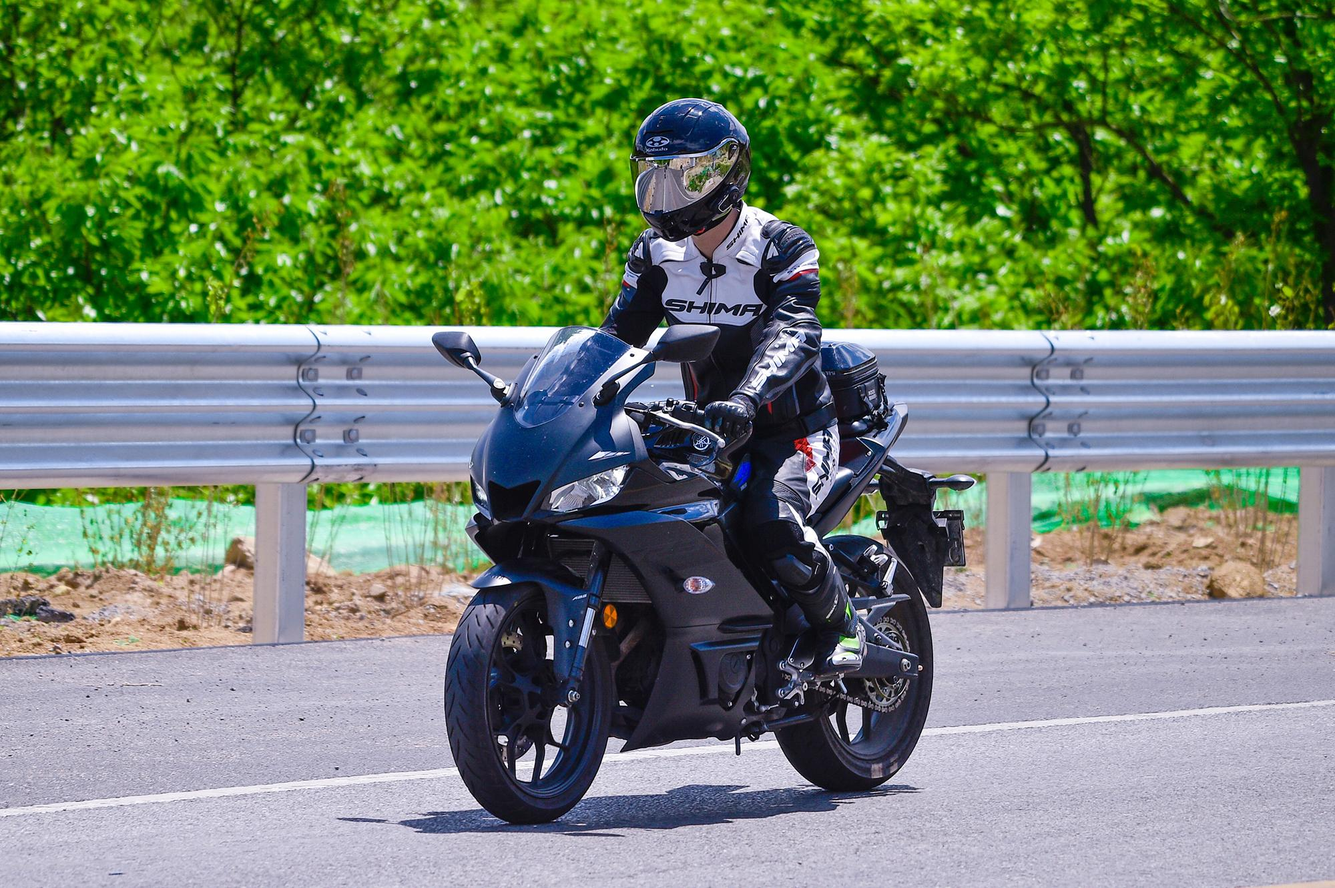helmet: (629, 96, 752, 243)
